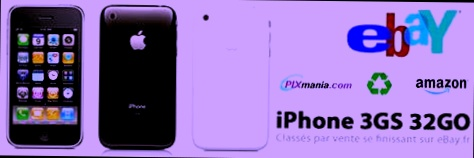iphone: (192, 7, 271, 151), (7, 7, 84, 151), (100, 7, 176, 150)
